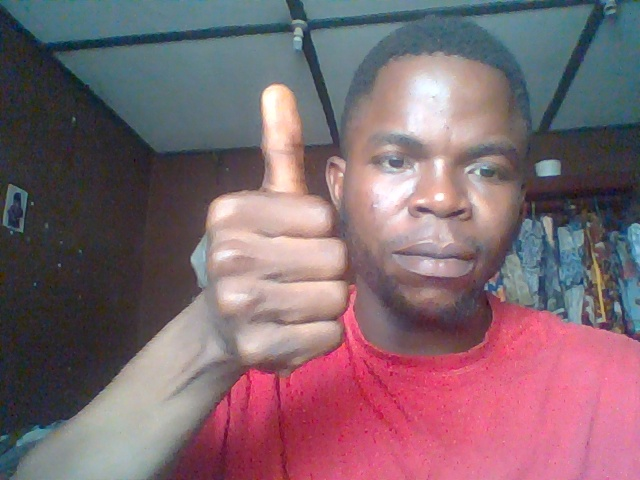Thumbup: (192, 83, 367, 379)
